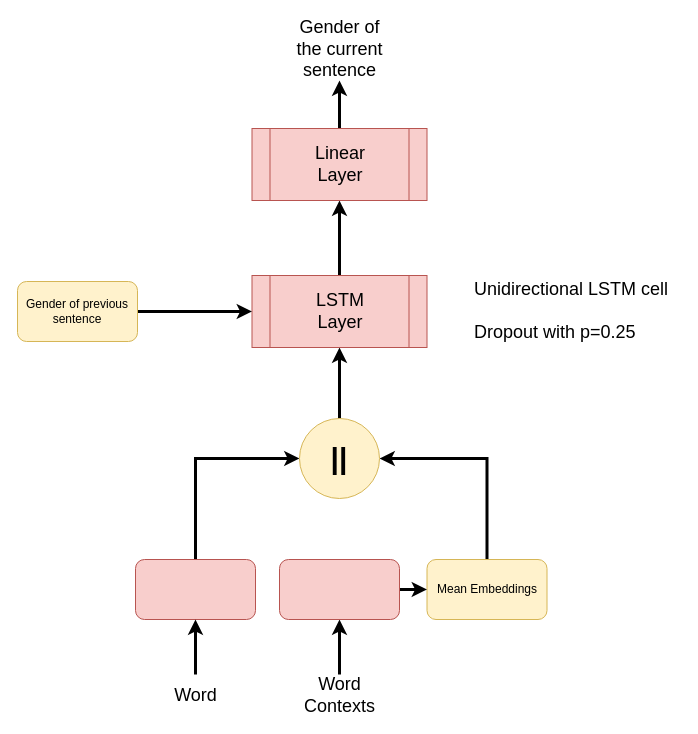
The diagram is 698 pixels wide and 734 high, and some of its shapes have lost their labels. Each missing label, with the centre of its shape:
"Context Embeddings" goes at pixel 339 589.
"Word Embeddings" goes at pixel 195 589.
